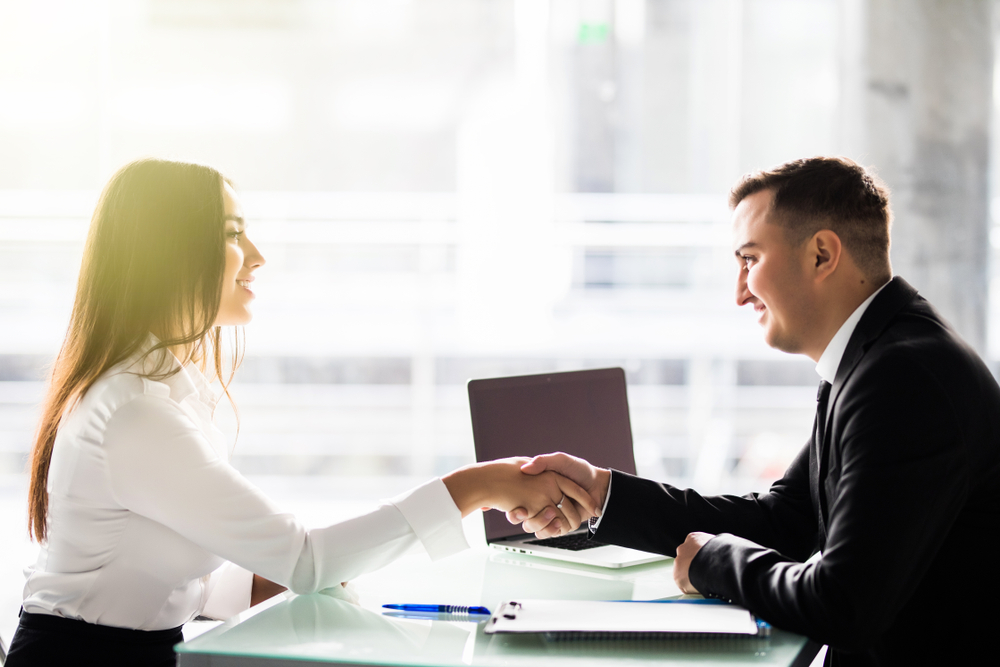Person: (35, 183, 565, 667), (530, 168, 980, 638)
